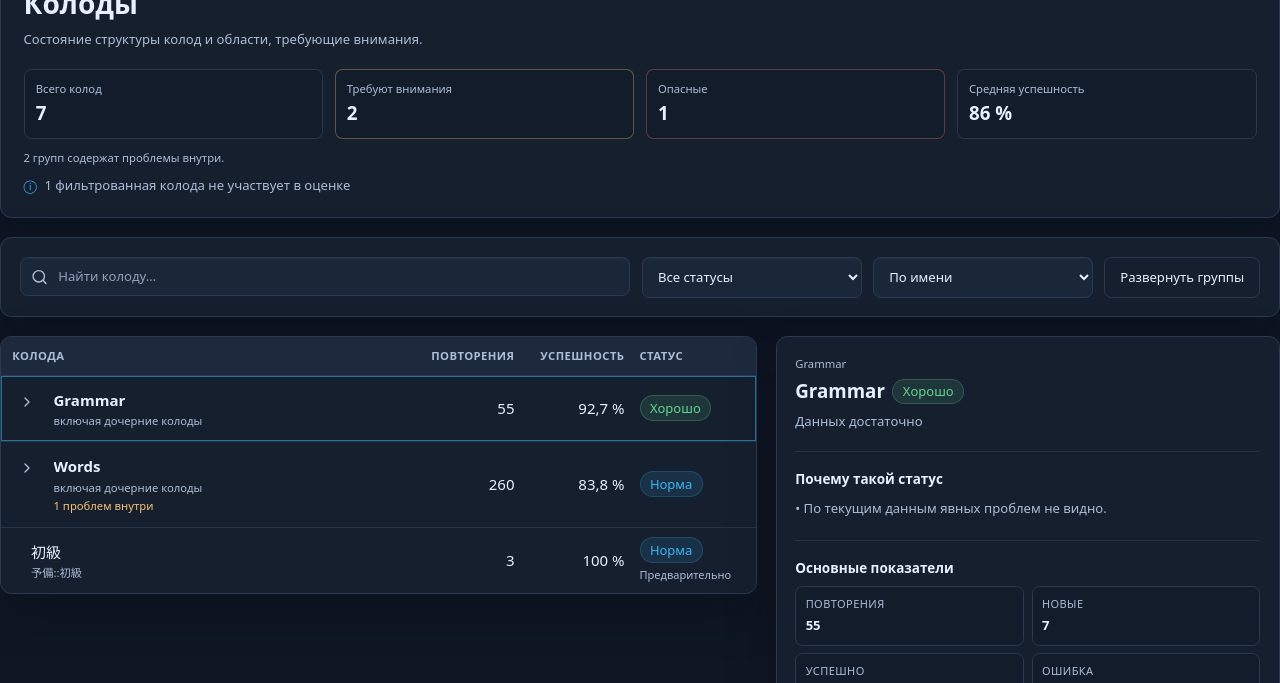
Test: Decks v2 › renders direct/subtree distinction, descendant issue navigation and unavailable values honestly
This screenshot has width=1280, height=683.
Click the button "Words включая дочерние колоды 1 проблем внутри".
click(128, 484)  # box [46,452,210,517]
(page scrolled)
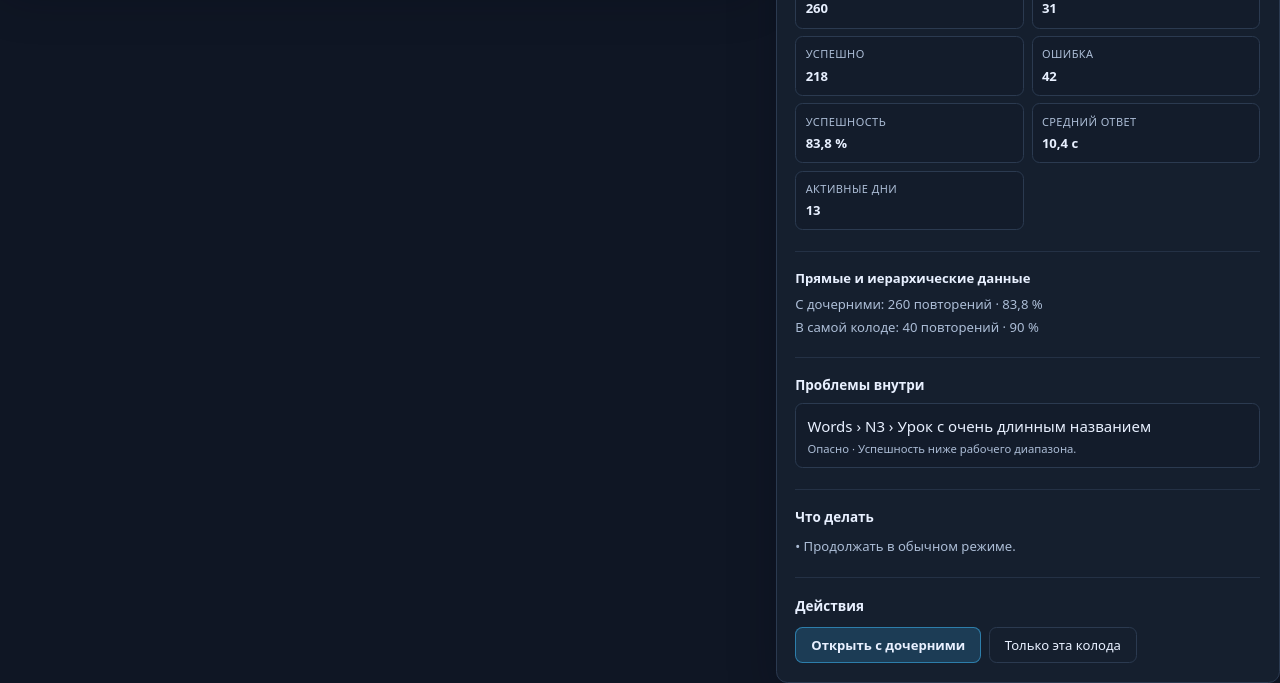
Expected: the text "Прямые и иерархические данные" is shown, [795,269,1030,287]
Expected: the text "В самой колоде:" is shown, [795,318,1039,336]
Expected: the element that starts with "Проблемы внутри" is shown, [795,356,1260,468]
Click the 2nd button.
click(1028, 435)  # box [795,402,1260,468]
(page scrolled)
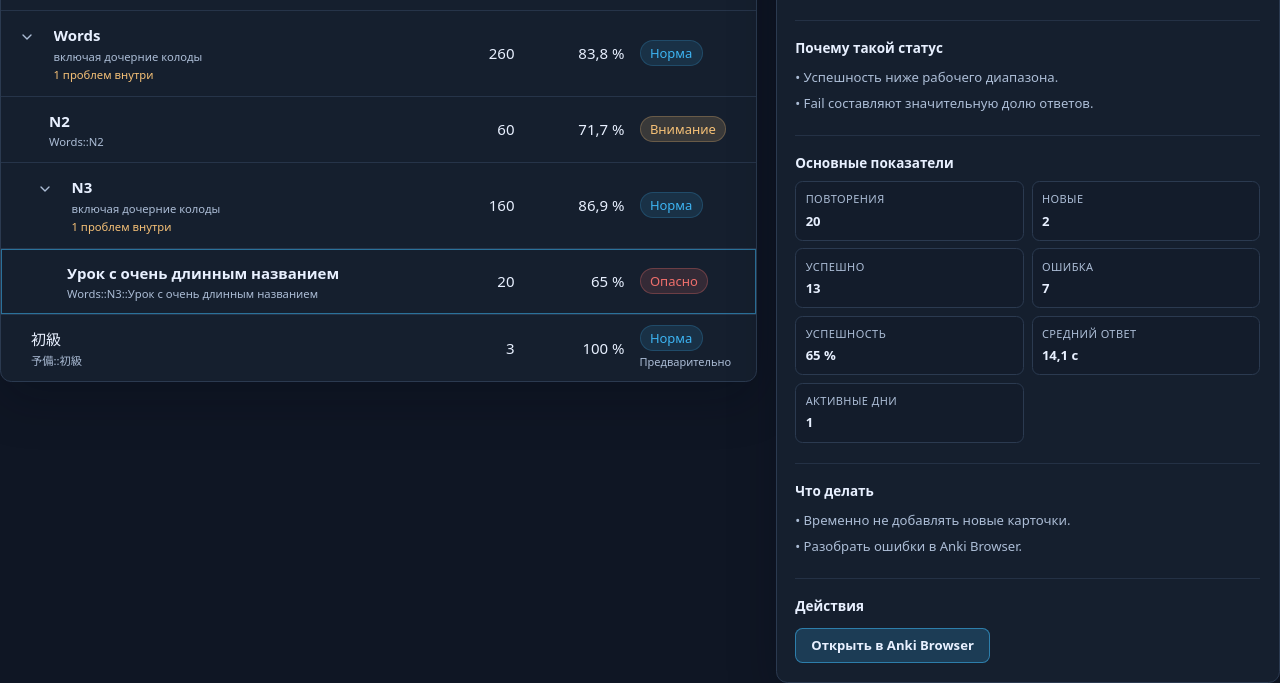
Click the button "初級 予備::初級".
click(56, 348)  # box [24,324,90,371]
(page scrolled)
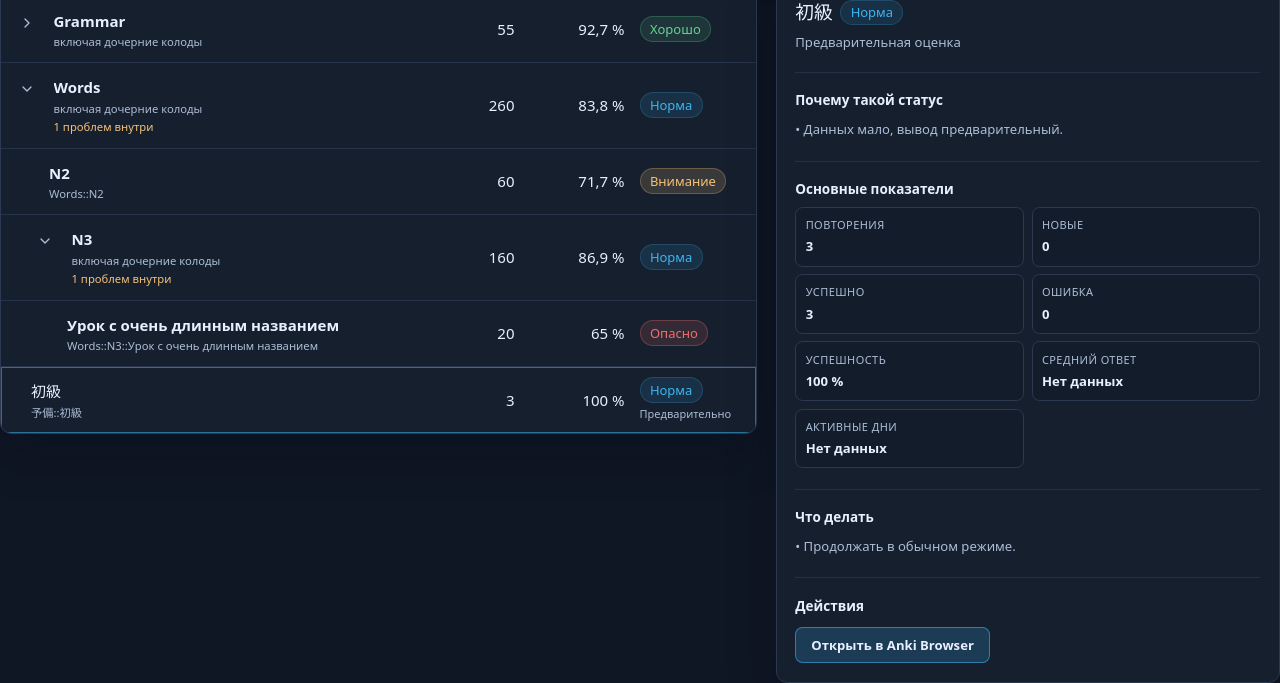
Expected: the text "Нет данных" is shown, [1042,372,1123,390]
